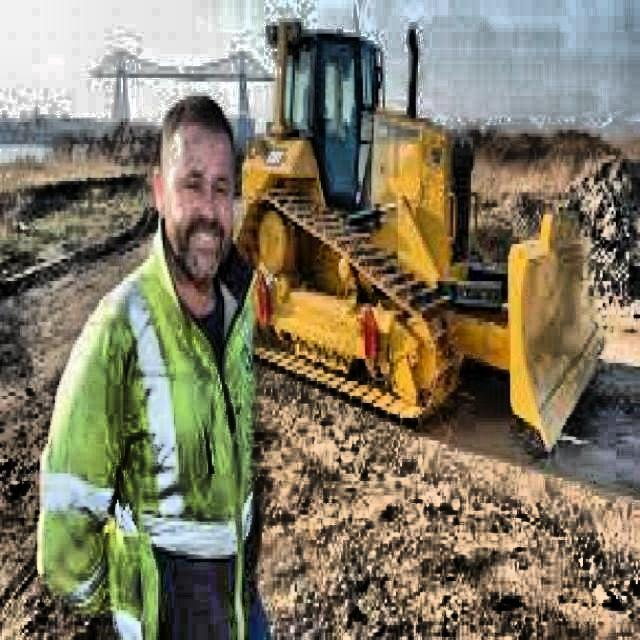bull_dozer/loader/grader: (238, 17, 610, 460)
person: (34, 93, 271, 640)
